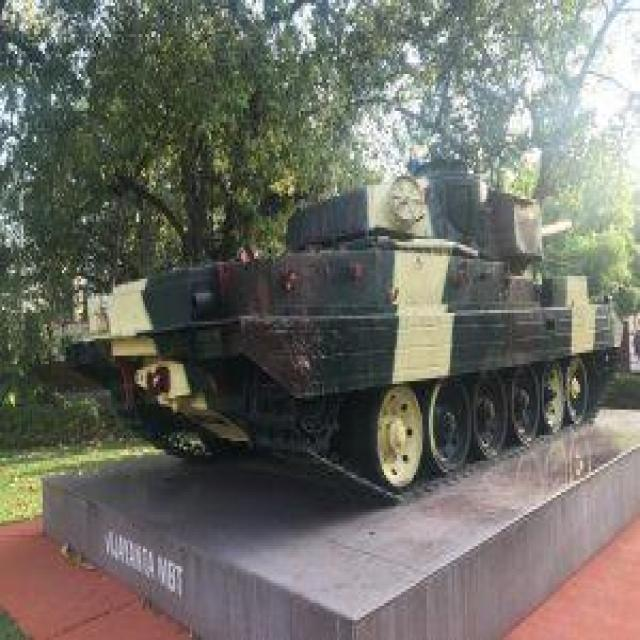MIL_MBT: (78, 159, 622, 452)
